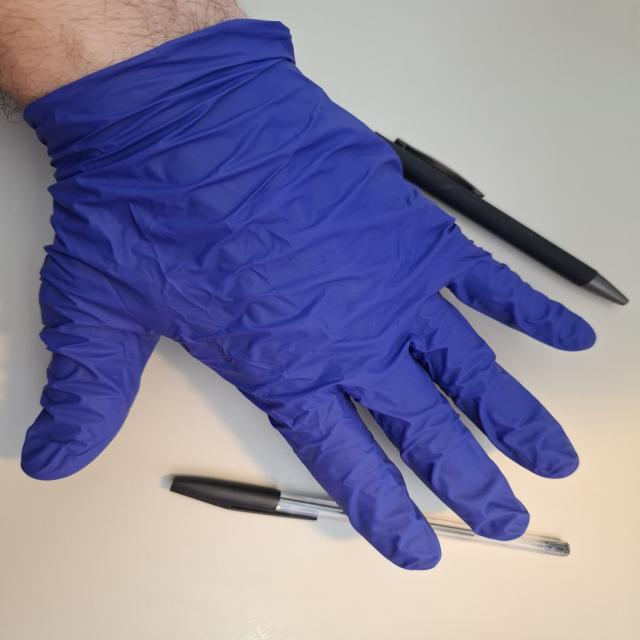glove_on: (18, 30, 600, 574)
